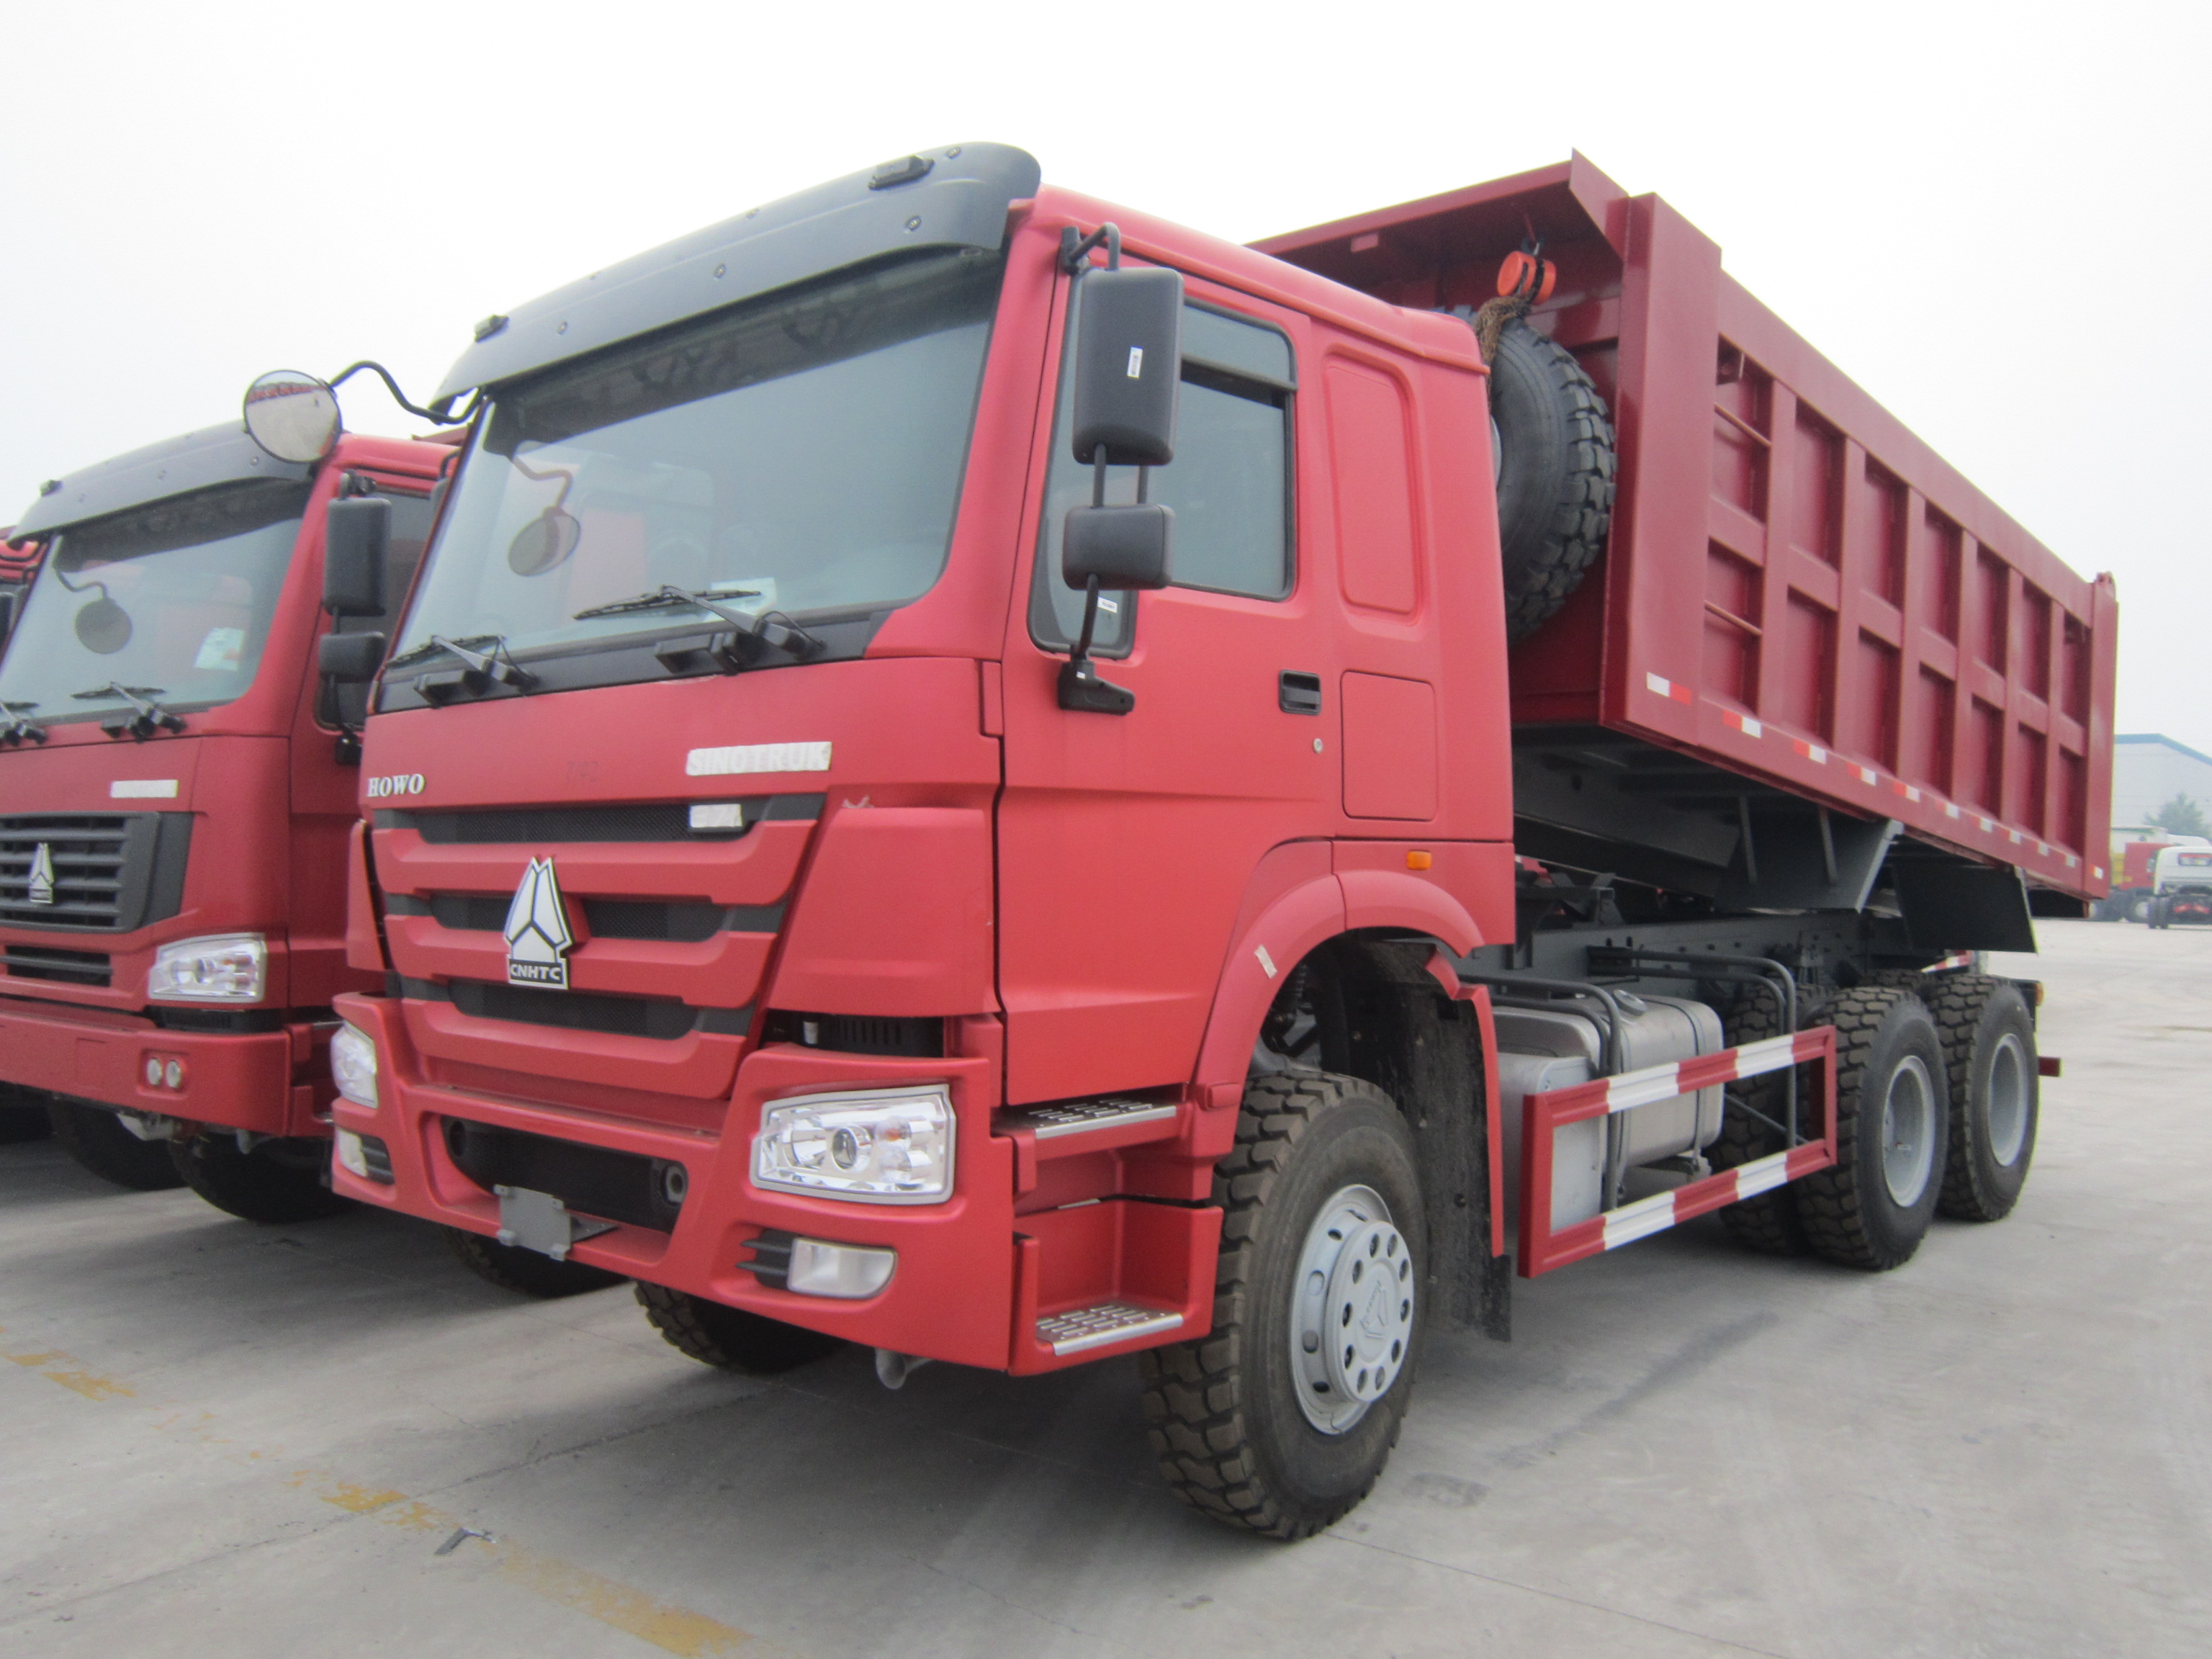truck: (408, 308, 2120, 1345), (16, 385, 357, 1202)
